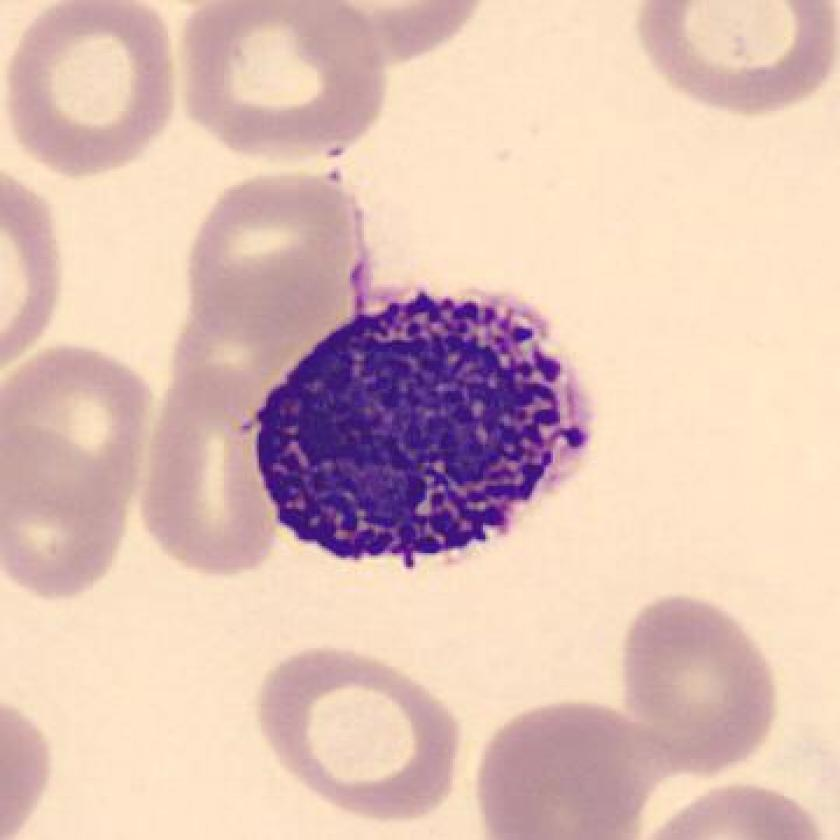basophil: (246, 276, 591, 582)
